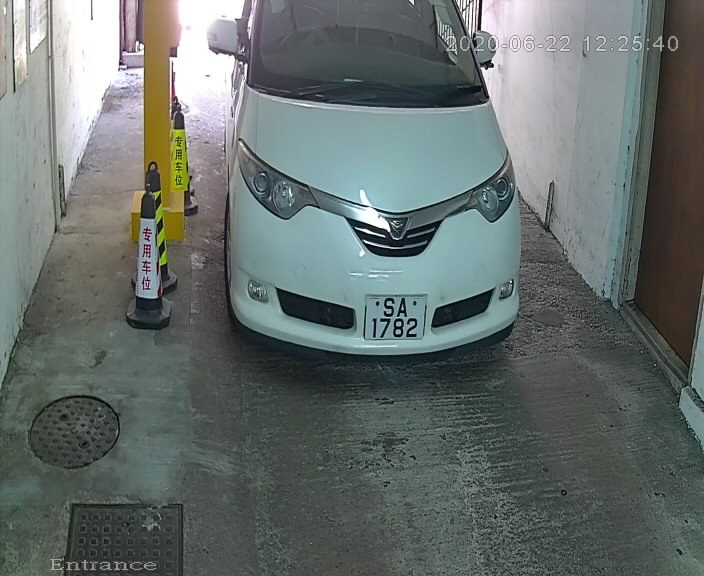privatecar: (200, 1, 545, 378)
